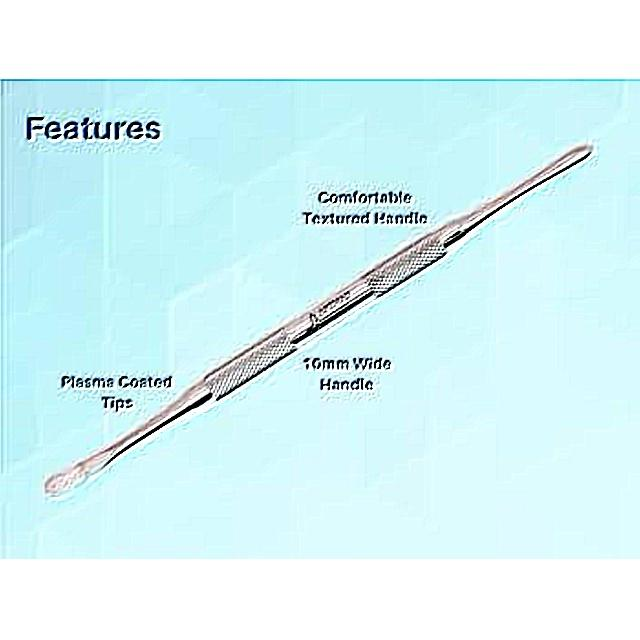elevador: (44, 143, 595, 499)
